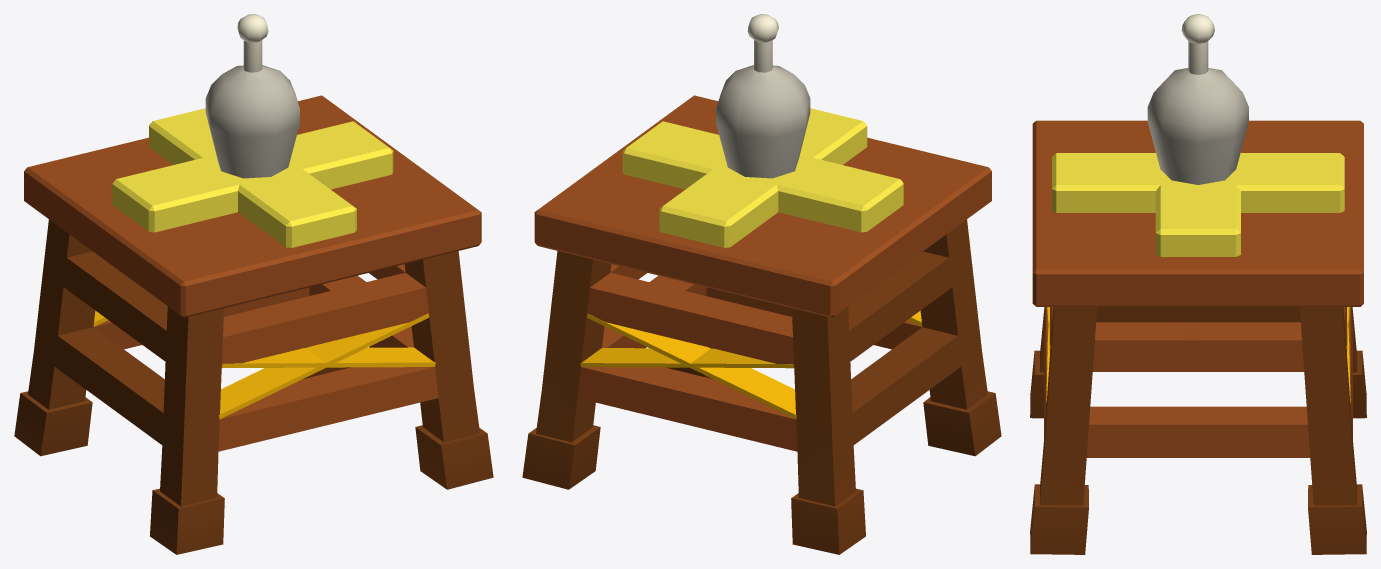
File: island5-defense1.fbx
The picture shows the model from 3 angles, left to right: view 1: azimuth 30°, elevation 25°; view 2: azimuth 150°, elevation 25°; view 3: azimuth 270°, elevation 25°; orthographic projection. The views are drawn at different scales.
Visible parts, largest first — view 1: island5(pink)-defense1; view 2: island5(pink)-defense1; view 3: island5(pink)-defense1.
Part boxes in pixels (x1,y1,x2,y2): island5(pink)-defense1: (14,14,493,554); island5(pink)-defense1: (522,14,1001,554); island5(pink)-defense1: (1030,14,1366,554).
Bounding box in the file's own units: 2.29 × 3.06 × 2.03.
Materials: 1 (1 with a texture image).
